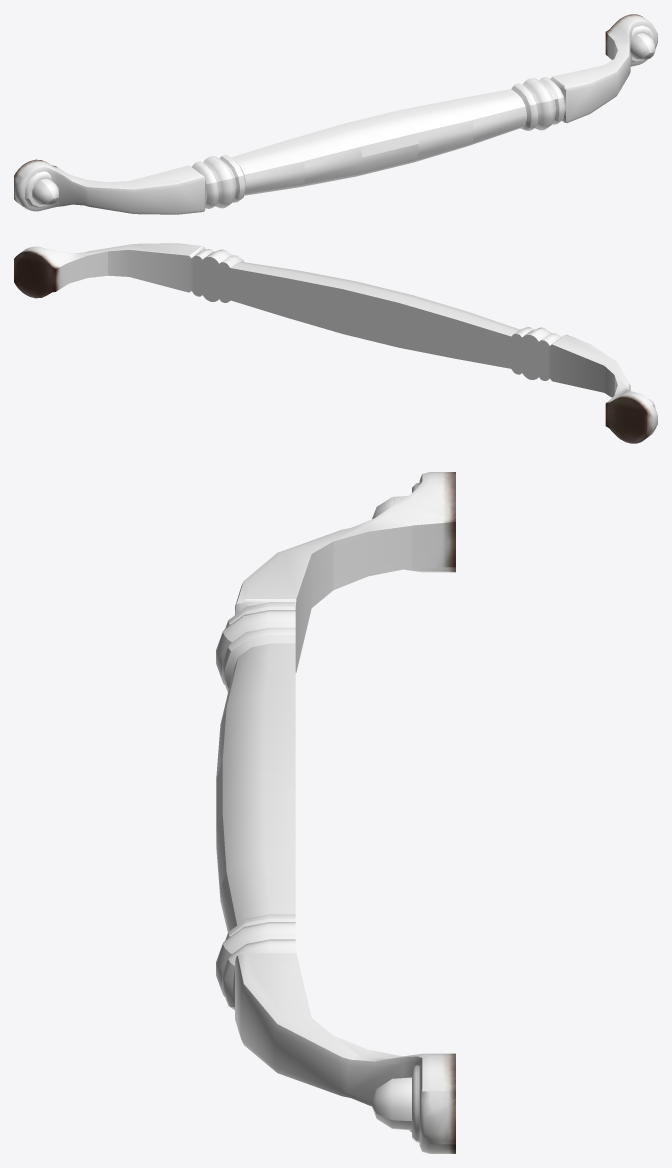
File: link_1__handle-30.glb
3 views of the same model, one above another, from view 1: azimuth 30°, elevation 25°; view 2: azimuth 150°, elevation 25°; view 3: azimuth 270°, elevation 25° (orthographic). The views are drawn at different scales.
Visible parts, largest first — view 1: geometry_0; view 2: geometry_0; view 3: geometry_0.
Boxes of the visible parts, x1,y1,x2,y2 form: geometry_0: (14, 14, 657, 214); geometry_0: (14, 243, 657, 443); geometry_0: (216, 472, 455, 1153).
Bounding box in the file's own units: 0.3112 × 0.021 × 0.0506.
Materials: 1 (1 with a texture image).
